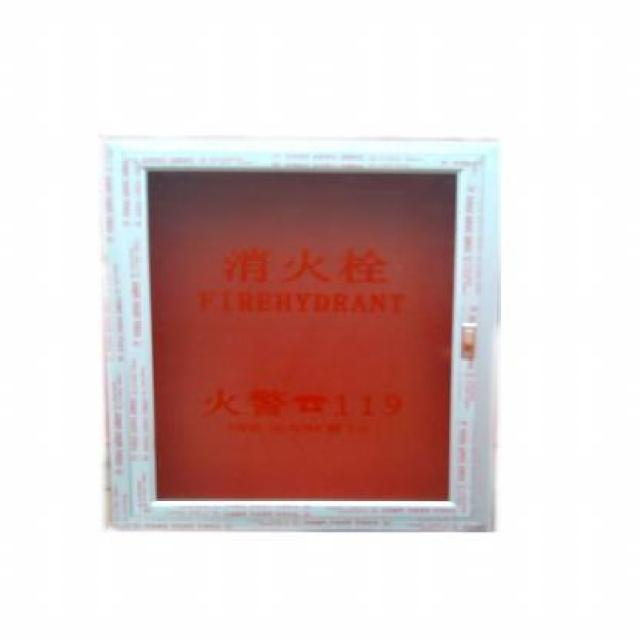firehydrant: (94, 131, 506, 537)
